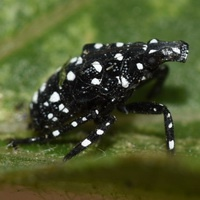insect: (8, 39, 188, 159)
